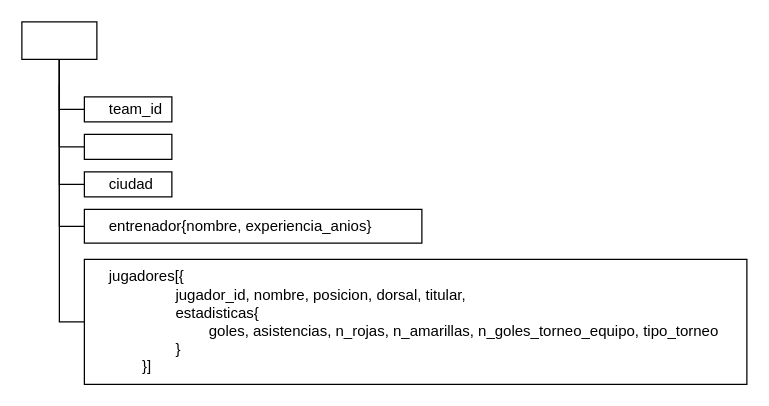
Some shapes in this 769 by 406 pixel diagram are drawn without their labels. Each missing label, with the centre of its shape:
"Equipo" belongs at [59,40].
"nombre" belongs at [127,146].
